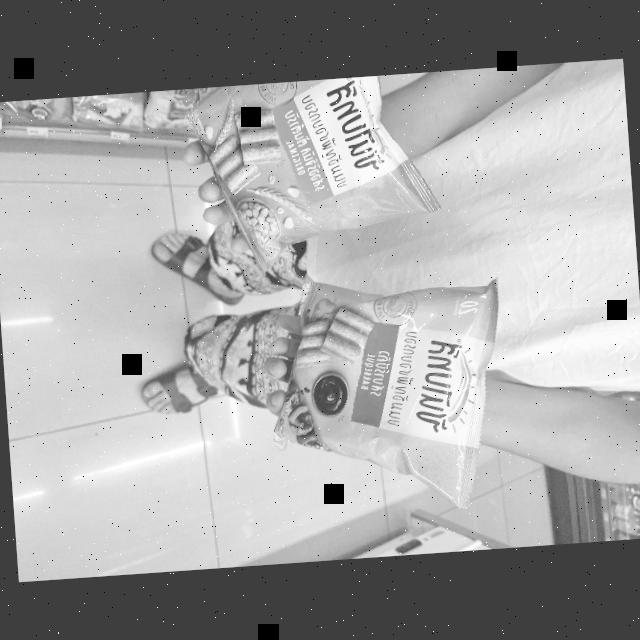snack_bag: (258, 256, 514, 522), (195, 72, 447, 279)
